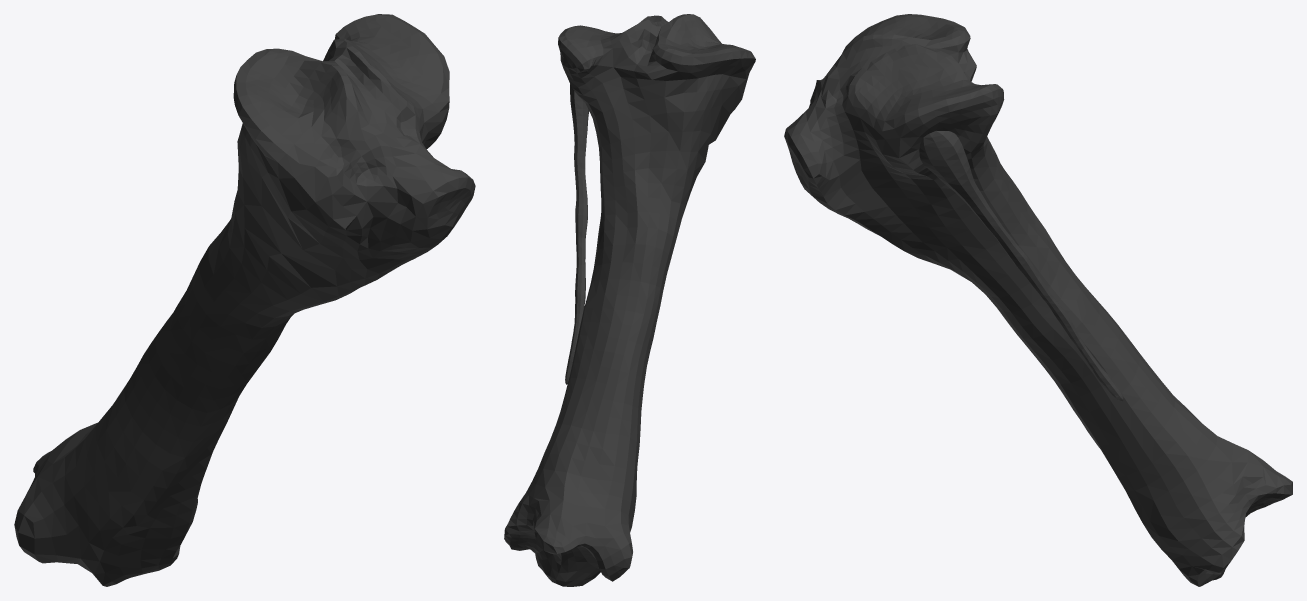
The model's file is Tibia_L.glb.
The picture shows the model from 3 angles, left to right: view 1: azimuth 30°, elevation 25°; view 2: azimuth 150°, elevation 25°; view 3: azimuth 270°, elevation 25°; orthographic projection. The views are drawn at different scales.
Parts seen in each view (by area): view 1: Tibia_L; view 2: Tibia_L; view 3: Tibia_L.
Boxes of the visible parts, box(x1,y1,x2,y2) form: Tibia_L: box(14, 14, 475, 586); Tibia_L: box(504, 14, 755, 586); Tibia_L: box(784, 14, 1292, 586).
Size of the model in its own units: 0.1984 by 0.4814 by 0.3988.
Materials: 1 (1 with a texture image).
